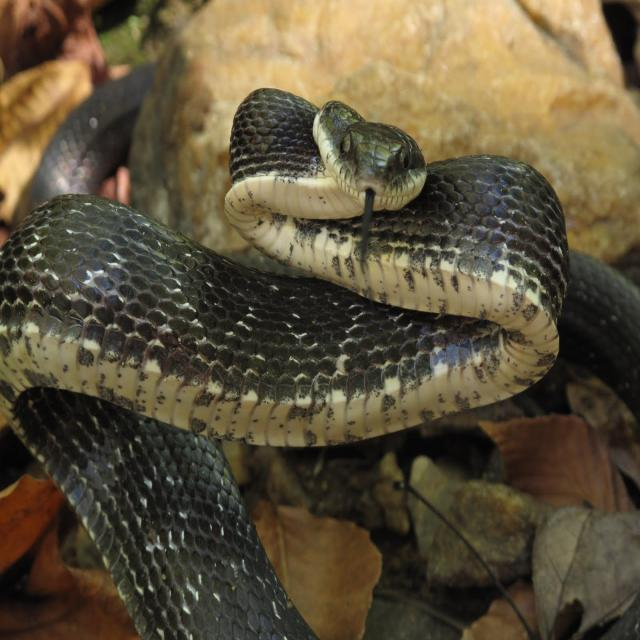Snake: (14, 59, 584, 640)
